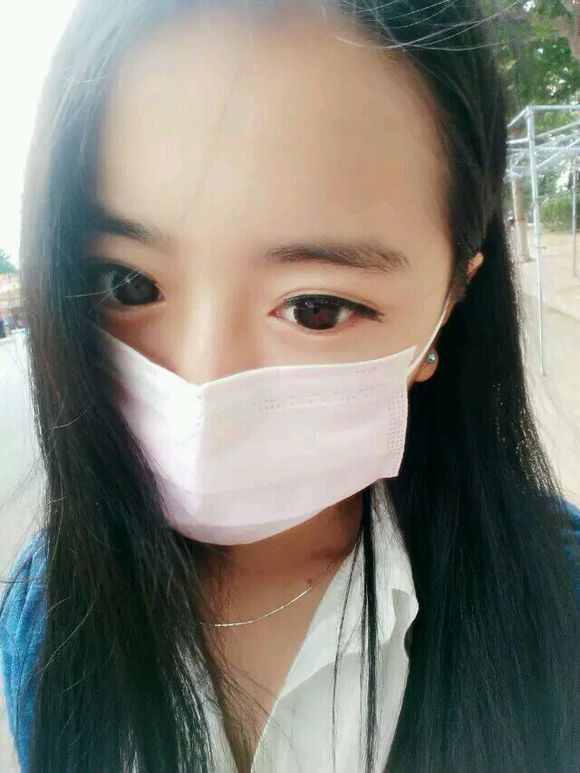face_mask: (66, 25, 422, 547)
